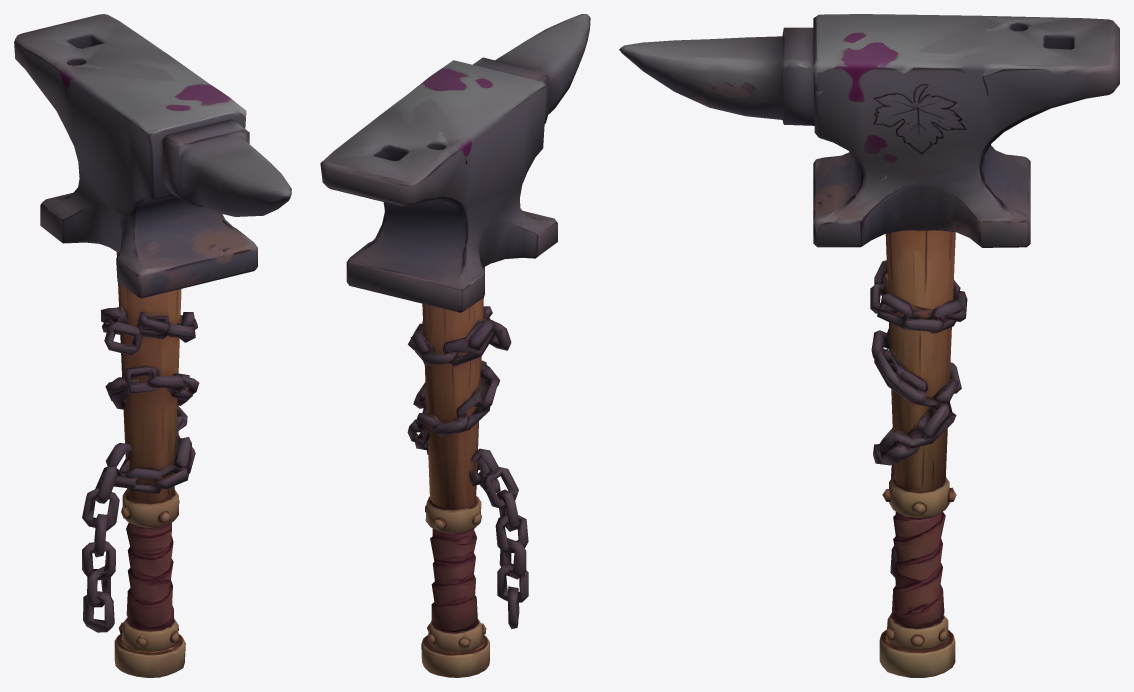
File: vintner_hammer_tripo.glb
3 views of the same model, side by side, from view 1: azimuth 30°, elevation 25°; view 2: azimuth 150°, elevation 25°; view 3: azimuth 270°, elevation 25° (orthographic). The views are drawn at different scales.
Visible parts, largest first — view 1: tripo_node_f2d053e1-a3e3-4d97-9272-75b607dece24; view 2: tripo_node_f2d053e1-a3e3-4d97-9272-75b607dece24; view 3: tripo_node_f2d053e1-a3e3-4d97-9272-75b607dece24.
Part boxes in pixels (x1,y1,x2,y2): tripo_node_f2d053e1-a3e3-4d97-9272-75b607dece24: (14,14,291,677); tripo_node_f2d053e1-a3e3-4d97-9272-75b607dece24: (320,14,590,677); tripo_node_f2d053e1-a3e3-4d97-9272-75b607dece24: (619,14,1119,677).
Bounding box in the file's own units: 0.2363 × 0.998 × 0.7246.
1 material, 1 textured.
